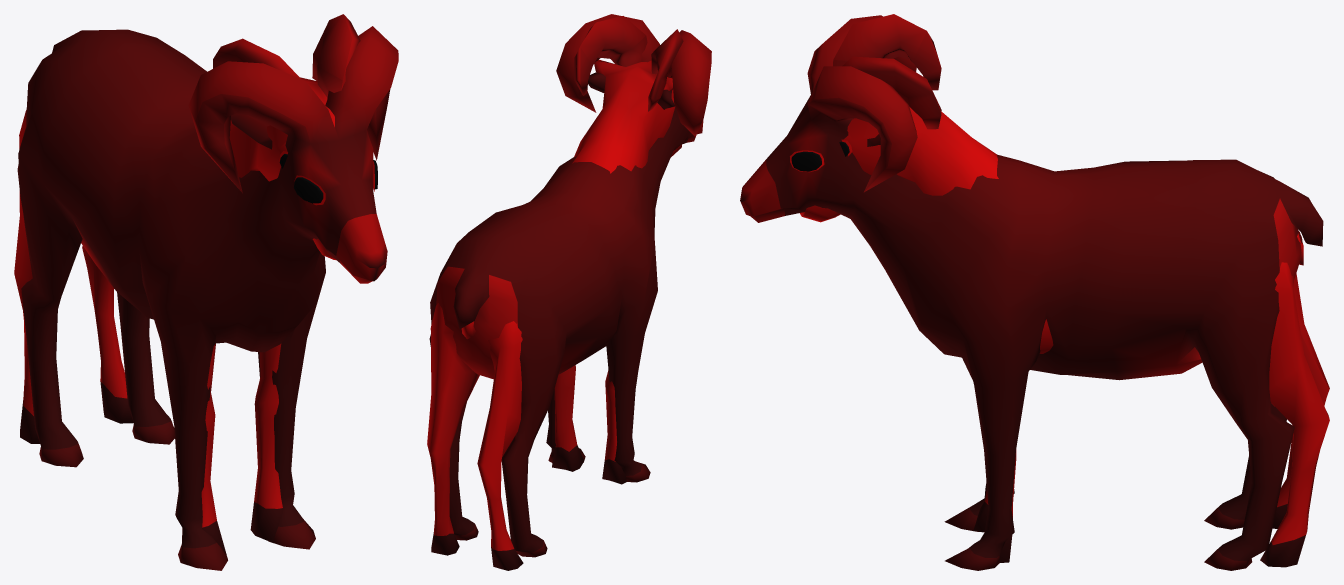
File: Animals_BighornSheep.fbx
The picture shows the model from 3 angles, left to right: view 1: azimuth 30°, elevation 25°; view 2: azimuth 150°, elevation 25°; view 3: azimuth 270°, elevation 25°; orthographic projection. The views are drawn at different scales.
Parts seen in each view (by area): view 1: alt606, alt607; view 2: alt606, alt607; view 3: alt606, alt607.
Boxes of the visible parts, left/top/right/bottom form: alt606: left=17, top=26, right=398, bottom=570; alt607: left=14, top=14, right=360, bottom=553; alt606: left=429, top=14, right=711, bottom=557; alt607: left=427, top=16, right=683, bottom=570; alt606: left=740, top=15, right=1323, bottom=570; alt607: left=799, top=14, right=1329, bottom=567.
Bounding box in the file's own units: 50.66 × 136 × 144.
